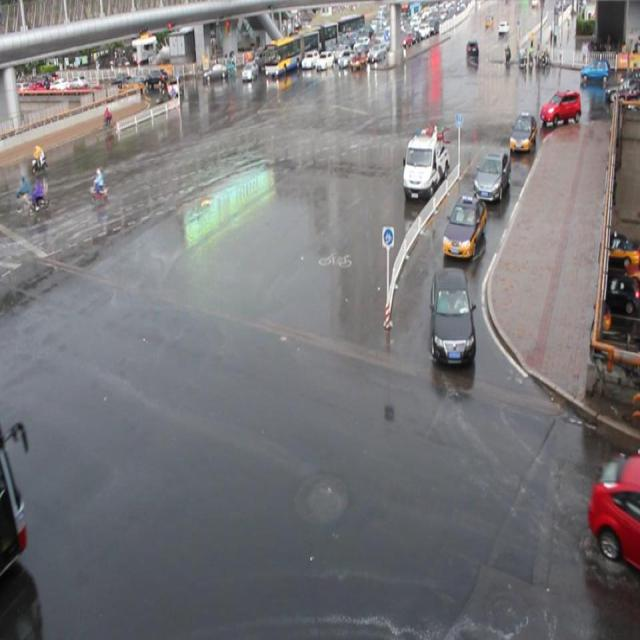bus: (401, 128, 449, 198)
car: (586, 450, 640, 572), (428, 266, 475, 365), (441, 194, 486, 256), (472, 150, 510, 202), (539, 89, 580, 126), (508, 111, 536, 152)
van: (1, 401, 28, 577)
